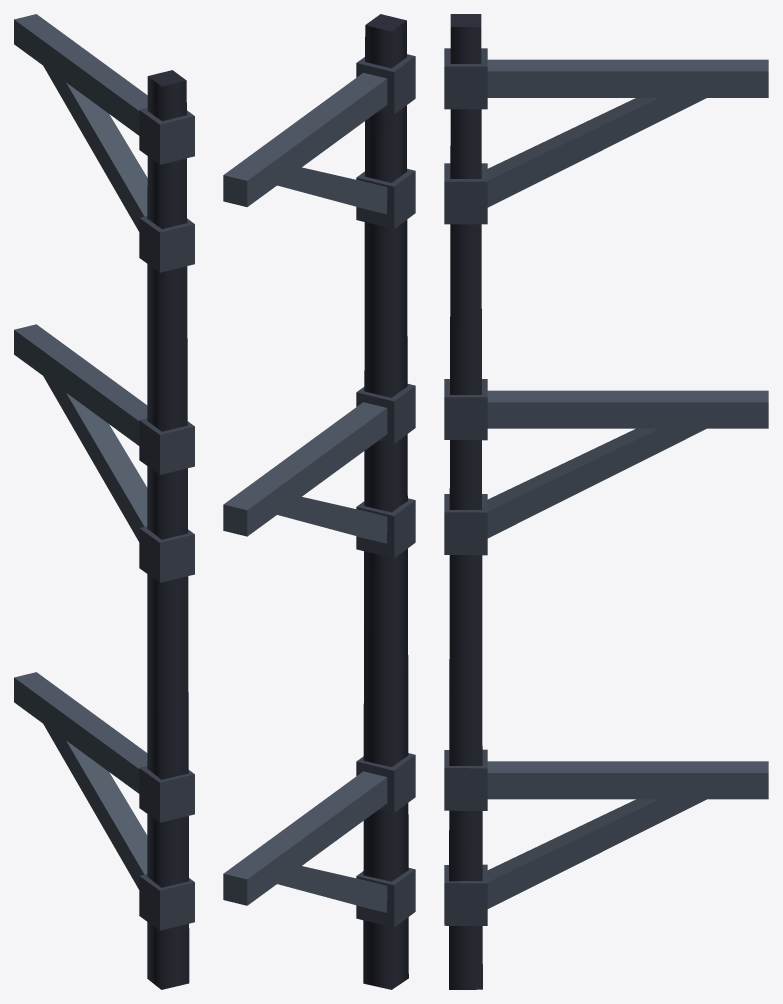
File: SignHolder_5_E.fbx
3 views of the same model, side by side, from view 1: azimuth 30°, elevation 25°; view 2: azimuth 150°, elevation 25°; view 3: azimuth 270°, elevation 25° (orthographic). The views are drawn at different scales.
Parts seen in each view (by area): view 1: SignHolder_5_E; view 2: SignHolder_5_E; view 3: SignHolder_5_E.
Part boxes in pixels (x1,y1,x2,y2): SignHolder_5_E: [14, 14, 194, 989]; SignHolder_5_E: [223, 14, 415, 989]; SignHolder_5_E: [444, 14, 768, 989].
Bounding box in the file's own units: 8.95 × 217 × 66.26.
